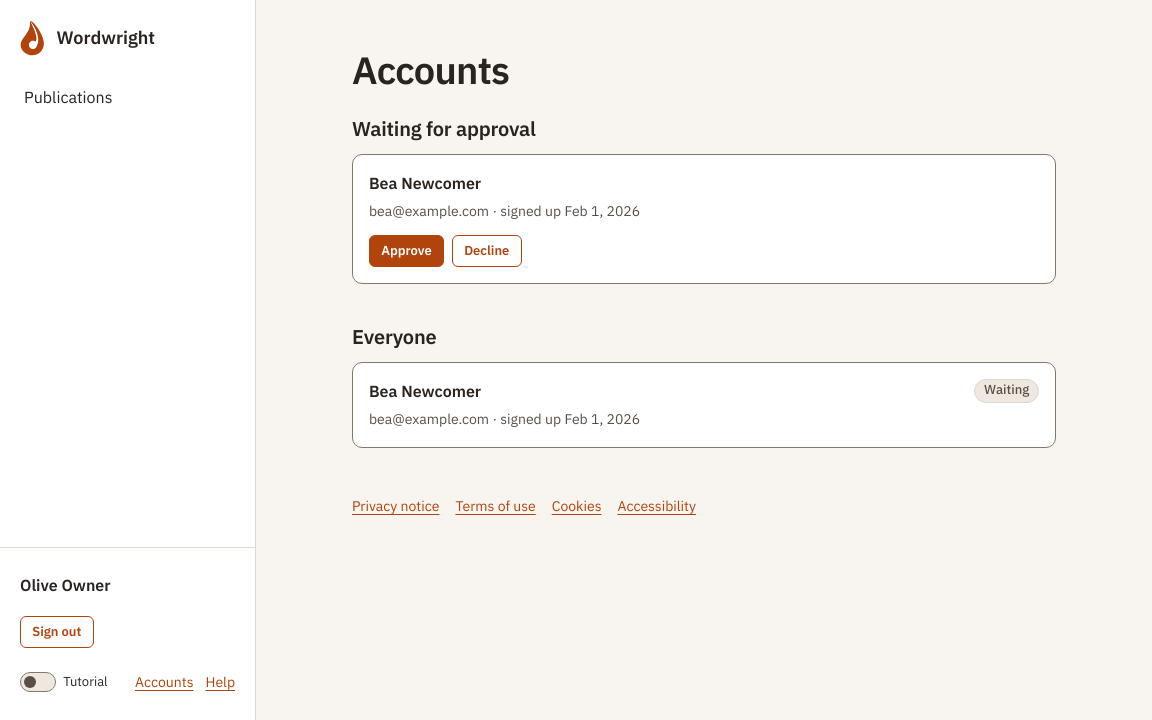
Test case: the admin list › approves and declines with buttons, and shows the list the server answers with
Click the button with aria-label "Approve Bea Newcomer".
click(406, 251)  # box x1=369 y1=235 x2=444 y2=267
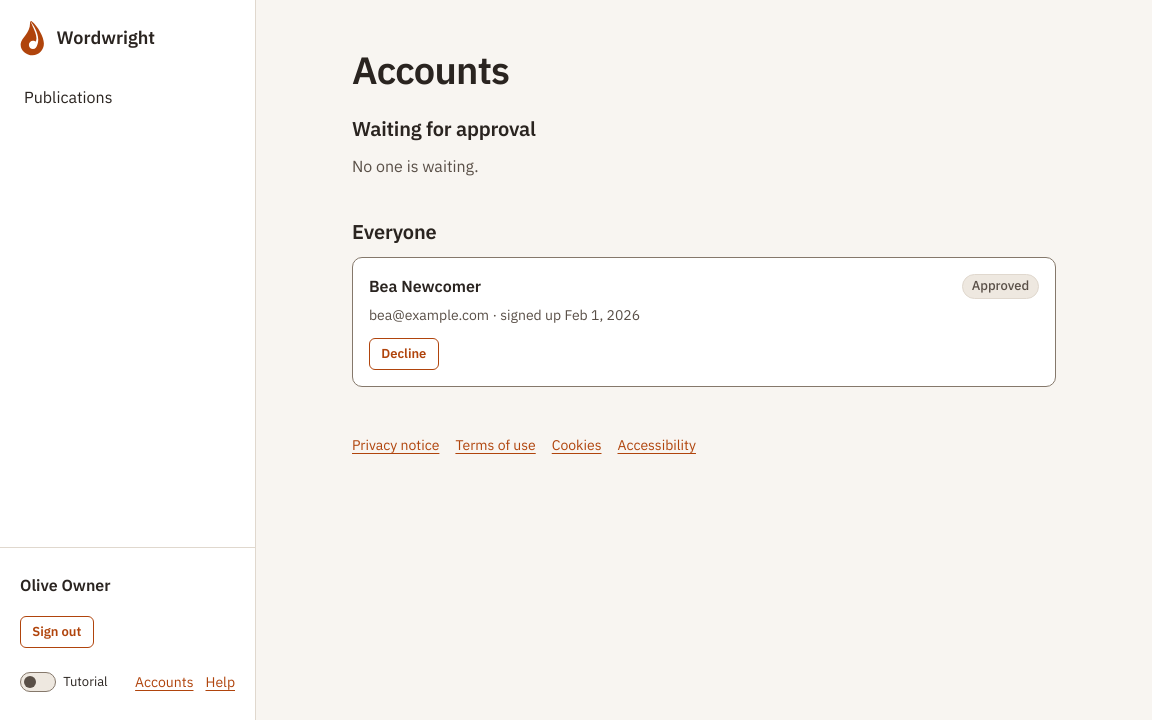
Expected: the button with aria-label "Decline Bea Newcomer" is shown, x1=369 y1=338 x2=439 y2=370
Now the text "No one is waiting." is shown, box x1=352 y1=156 x2=479 y2=176
